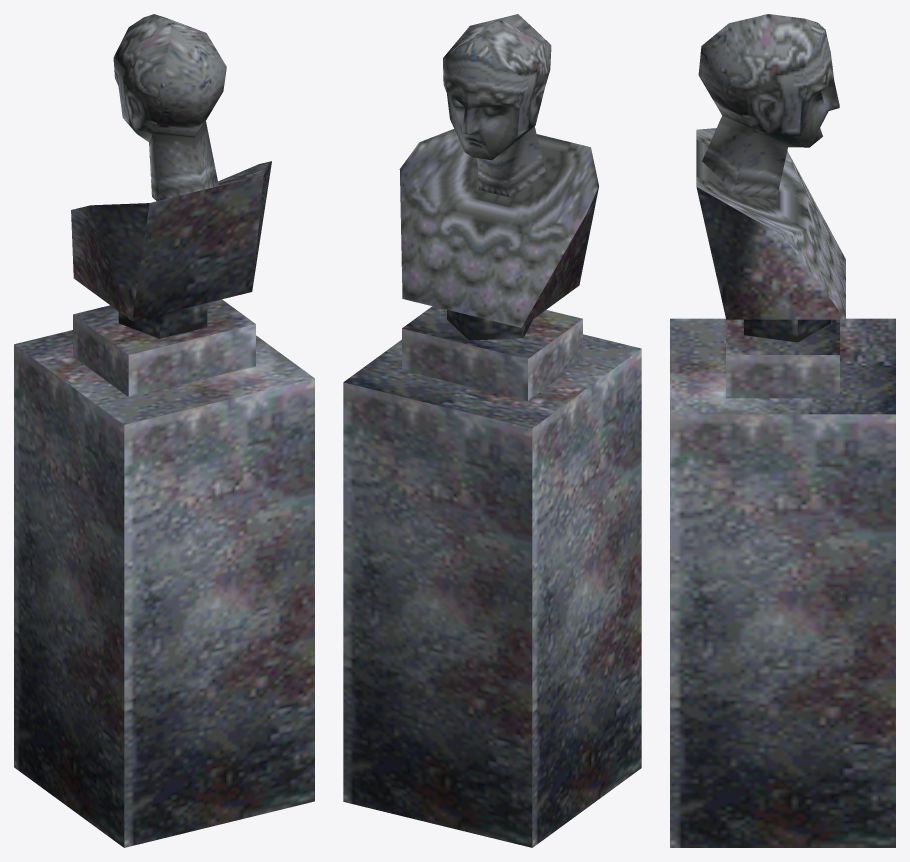
The model's file is ROOM10C0_model01_RE2MV.OBJ.
The picture shows the model from 3 angles, left to right: view 1: azimuth 30°, elevation 25°; view 2: azimuth 150°, elevation 25°; view 3: azimuth 270°, elevation 25°; orthographic projection. The views are drawn at different scales.
Parts seen in each view (by area): view 1: Object_0; view 2: Object_0; view 3: Object_0.
Boxes of the visible parts, x1,y1,x2,y2 form: Object_0: (14, 14, 314, 847); Object_0: (343, 14, 641, 847); Object_0: (670, 14, 895, 847).
Size of the model in its own units: 17.14 by 65.82 by 17.14.
Materials: 1 (1 with a texture image).
